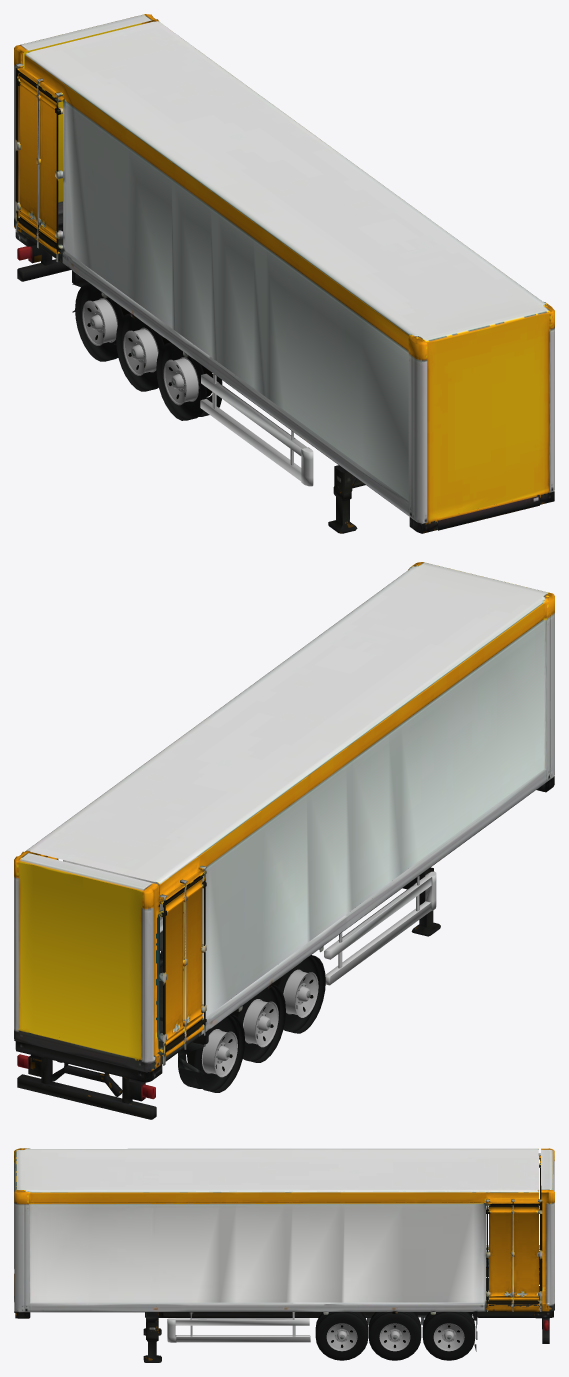
File: carreta-bau-2.glb
3 renders of one model, top to bottom at view 1: azimuth 30°, elevation 25°; view 2: azimuth 150°, elevation 25°; view 3: azimuth 270°, elevation 25°, orthographic. The views are drawn at different scales.
Parts seen in each view (by area): view 1: Frota_bau, Tyre_Rear_L, Tyre_Rear3_L, Tyre_Rear2_L; view 2: Frota_bau, Tyre_Rear3_L, Tyre_Rear2_L, Tyre_Rear_L; view 3: Frota_bau, Tyre_Rear2_R, Tyre_Rear_R, Tyre_Rear3_R.
Boxes of the visible parts, <box> form: Frota_bau: <box>14,14,554,533</box>; Tyre_Rear_L: <box>156,342,222,420</box>; Tyre_Rear3_L: <box>75,283,130,361</box>; Tyre_Rear2_L: <box>116,313,170,391</box>; Frota_bau: <box>14,562,554,1119</box>; Tyre_Rear3_L: <box>178,1014,244,1092</box>; Tyre_Rear2_L: <box>231,984,285,1062</box>; Tyre_Rear_L: <box>271,955,325,1033</box>; Frota_bau: <box>14,1148,554,1362</box>; Tyre_Rear2_R: <box>368,1312,421,1360</box>; Tyre_Rear_R: <box>315,1312,368,1360</box>; Tyre_Rear3_R: <box>422,1312,475,1360</box>.
Size of the model in its own units: 2.61 by 4.5 by 12.5.
1 material, 1 textured.
